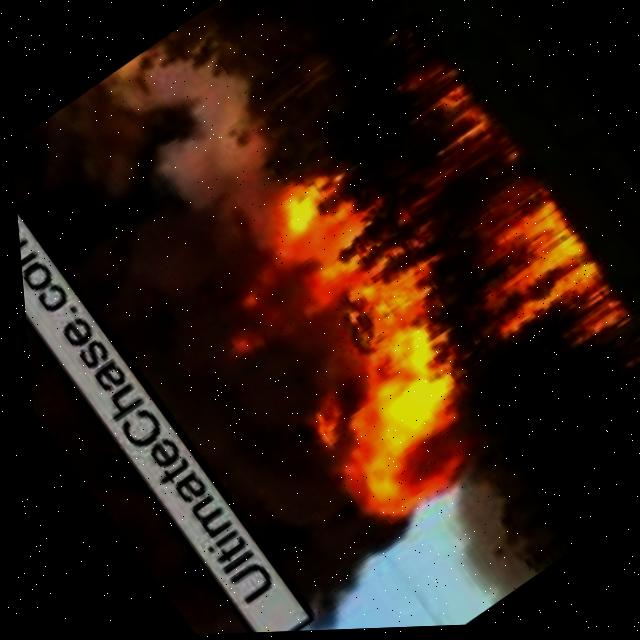Fire: (124, 21, 640, 546)
Smoke: (7, 100, 393, 640), (12, 186, 253, 640)
